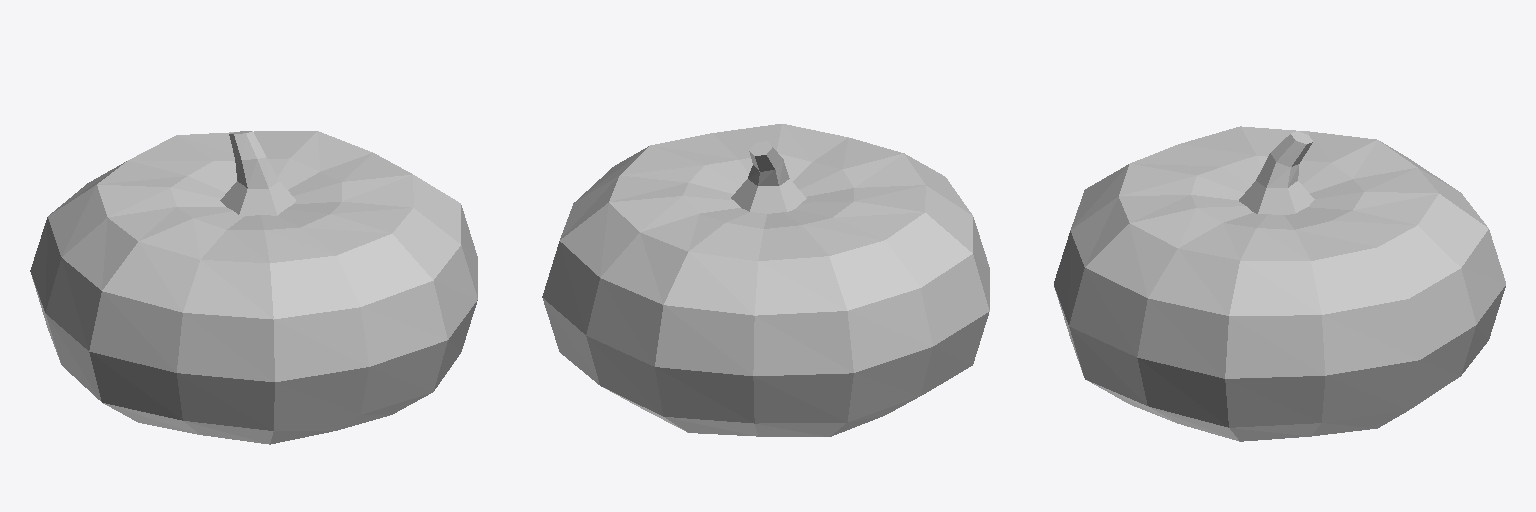
3 views of the same model, side by side, from view 1: azimuth 30°, elevation 25°; view 2: azimuth 150°, elevation 25°; view 3: azimuth 270°, elevation 25° (orthographic).
Parts seen in each view (by area): view 1: Pumpkin_Sphere.014; view 2: Pumpkin_Sphere.014; view 3: Pumpkin_Sphere.014.
Part boxes in pixels (left/top/right/bottom): Pumpkin_Sphere.014: left=30, top=131, right=477, bottom=444; Pumpkin_Sphere.014: left=542, top=124, right=989, bottom=436; Pumpkin_Sphere.014: left=1054, top=126, right=1505, bottom=441.
Size of the model in its own units: 9.55 by 5.64 by 9.64.